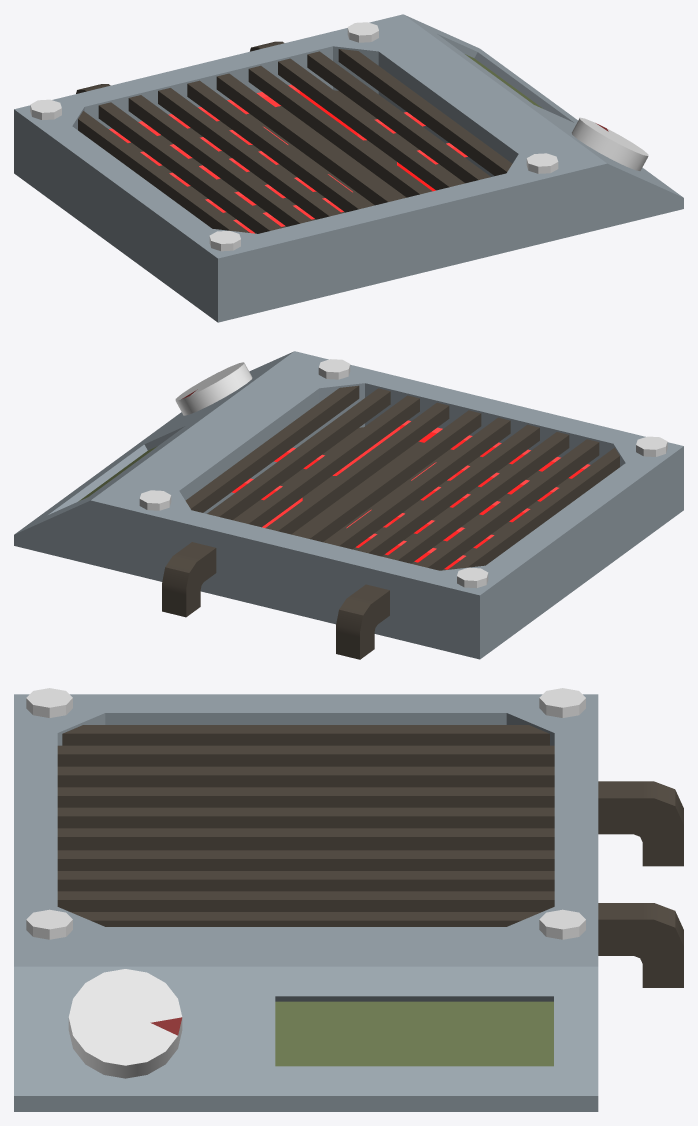
File: 3D_workstation_Grill.fbx
The picture shows the model from 3 angles, top to bottom: view 1: azimuth 30°, elevation 25°; view 2: azimuth 150°, elevation 25°; view 3: azimuth 270°, elevation 25°; orthographic projection. The views are drawn at different scales.
Visible parts, largest first — view 1: 3D_workstation_Grill_plate, 3D_workstation_Grill_Buton; view 2: 3D_workstation_Grill_plate, 3D_workstation_Grill_Buton; view 3: 3D_workstation_Grill_plate, 3D_workstation_Grill_Buton.
Part boxes in pixels (x1=…): 3D_workstation_Grill_plate: x1=14, y1=14, x2=683, y2=322; 3D_workstation_Grill_Buton: x1=571, y1=117, x2=648, y2=170; 3D_workstation_Grill_plate: x1=14, y1=351, x2=683, y2=659; 3D_workstation_Grill_Buton: x1=175, y1=362, x2=252, y2=415; 3D_workstation_Grill_plate: x1=14, y1=688, x2=683, y2=1111; 3D_workstation_Grill_Buton: x1=68, y1=969, x2=182, y2=1078.
Bounding box in the file's own units: 2.56 × 0.3756 × 2.22.
